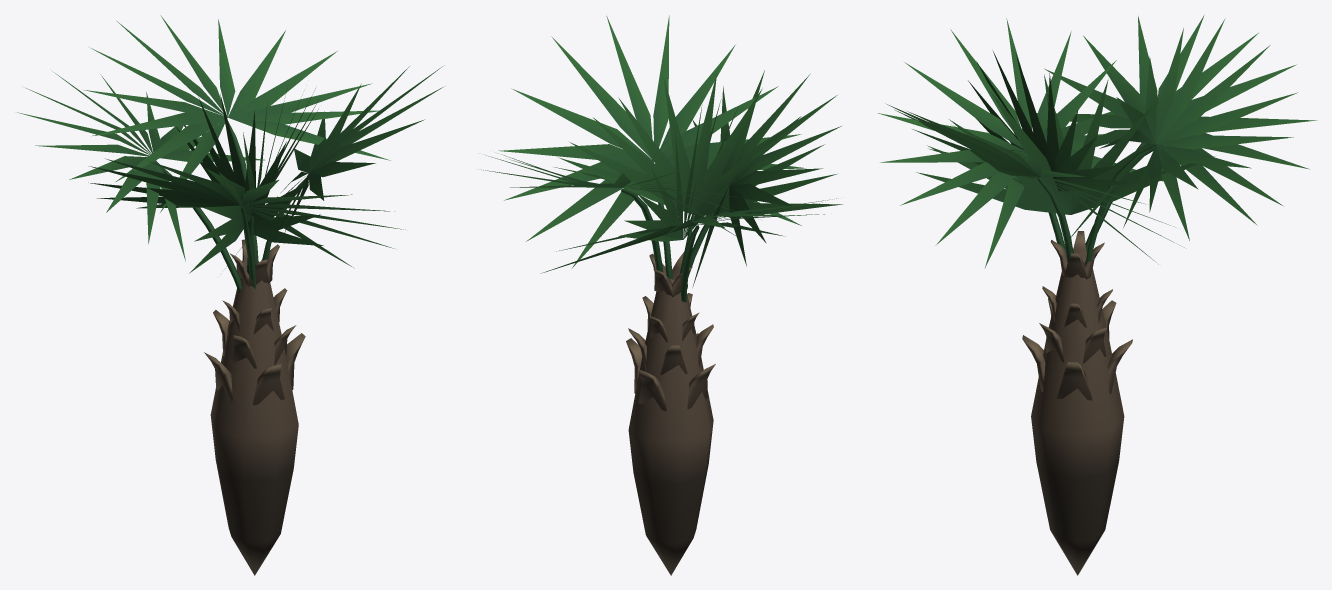
The model's file is trees-palms-ferns-fan-palm_v2.glb.
3 views of the same model, side by side, from view 1: azimuth 30°, elevation 25°; view 2: azimuth 150°, elevation 25°; view 3: azimuth 270°, elevation 25° (orthographic). The views are drawn at different scales.
Parts seen in each view (by area): view 1: Fan Palm_v2; view 2: Fan Palm_v2; view 3: Fan Palm_v2.
Part boxes in pixels (x1=…): Fan Palm_v2: x1=17, y1=15, x2=444, y2=575; Fan Palm_v2: x1=481, y1=15, x2=842, y2=575; Fan Palm_v2: x1=877, y1=15, x2=1317, y2=575.
Size of the model in its own units: 2.19 by 3 by 2.32.
